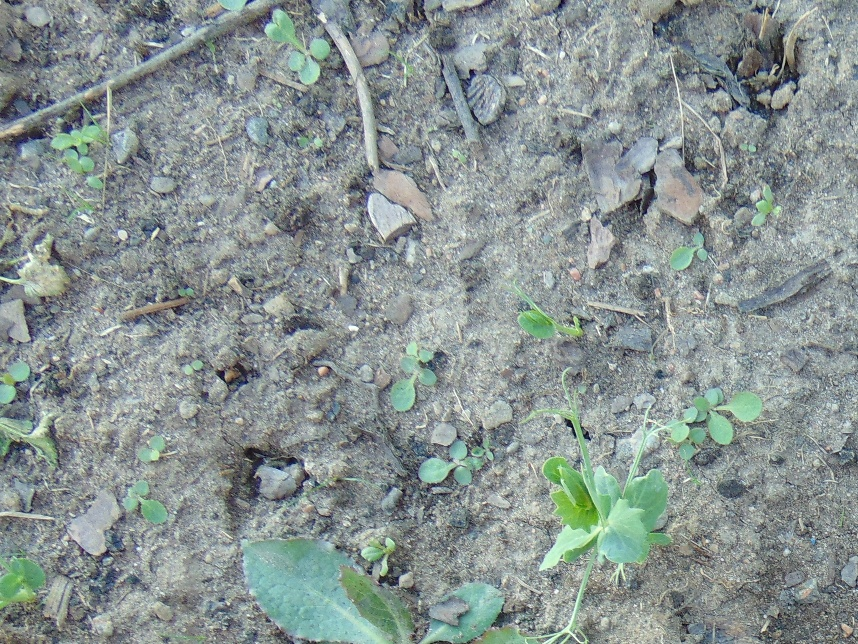crop: (534, 385, 667, 644), (508, 282, 590, 342), (1, 557, 47, 609)
weed: (238, 534, 541, 644), (668, 384, 762, 460), (263, 9, 331, 87), (46, 125, 112, 193), (388, 341, 440, 415), (419, 442, 495, 486), (120, 479, 170, 526), (1, 356, 32, 405), (669, 232, 708, 270), (750, 187, 784, 228), (137, 435, 166, 463)
